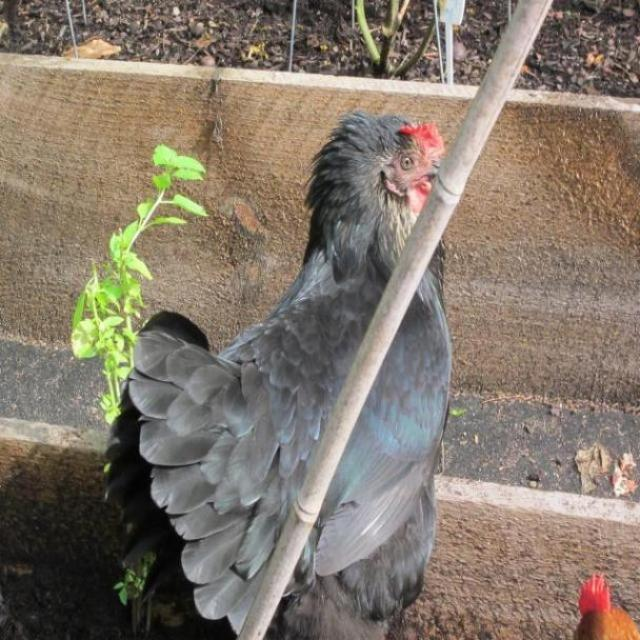Chicken: (104, 116, 455, 639)
